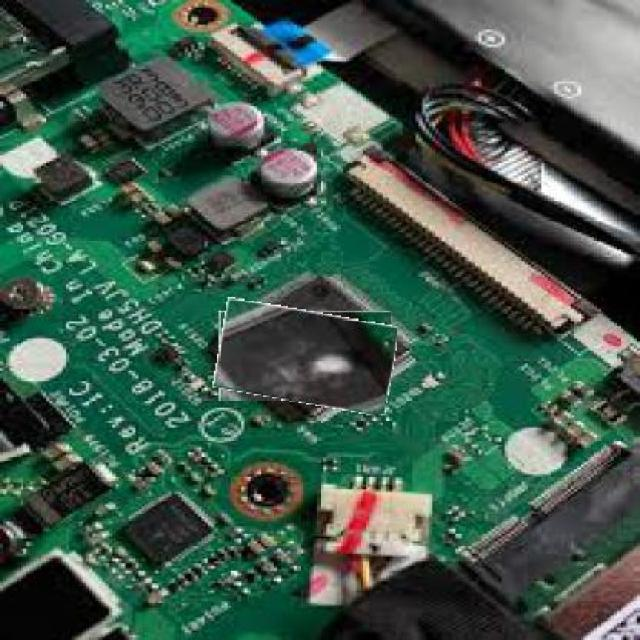Burn: (216, 304, 396, 408)
